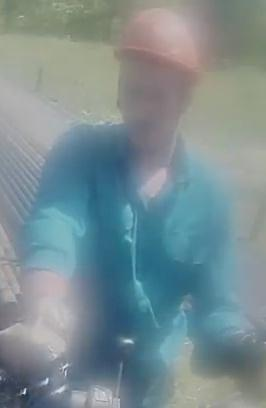gloves: (0, 278, 72, 382), (222, 322, 266, 392)
helmet: (109, 1, 202, 86)
vest: (15, 121, 237, 378)
